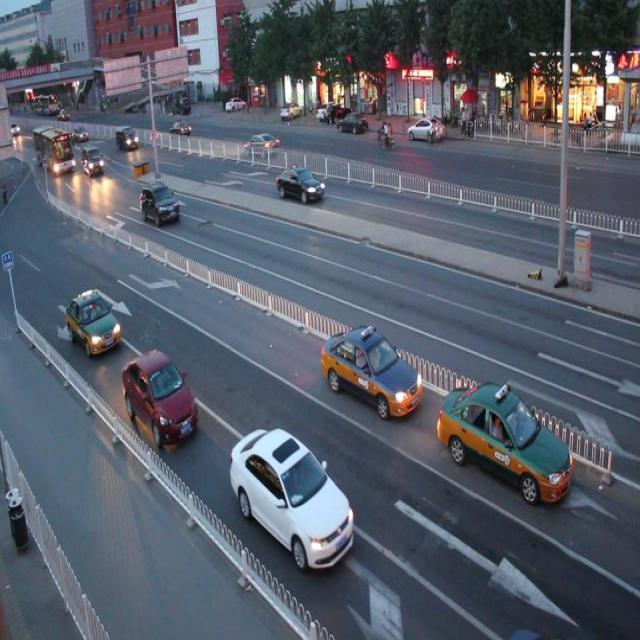car: (229, 425, 354, 569), (438, 374, 572, 503), (321, 321, 421, 416), (121, 350, 198, 444), (65, 289, 120, 356), (276, 164, 324, 205), (141, 182, 180, 226), (242, 132, 280, 158)
